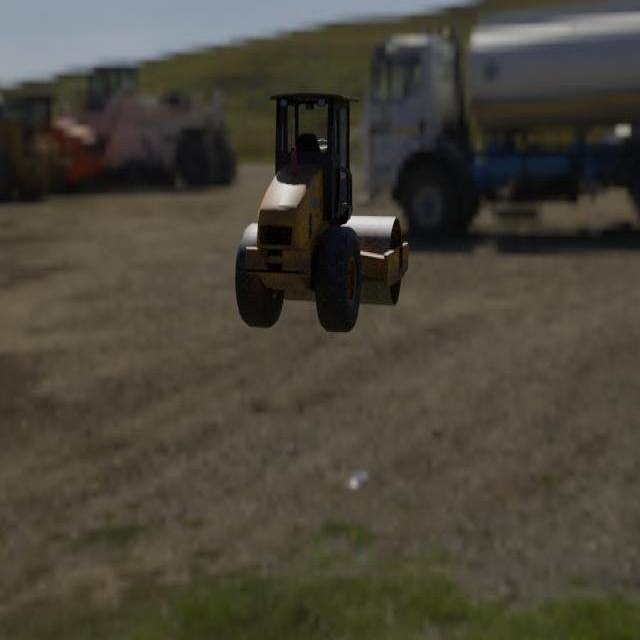Roller: (234, 92, 408, 333)
